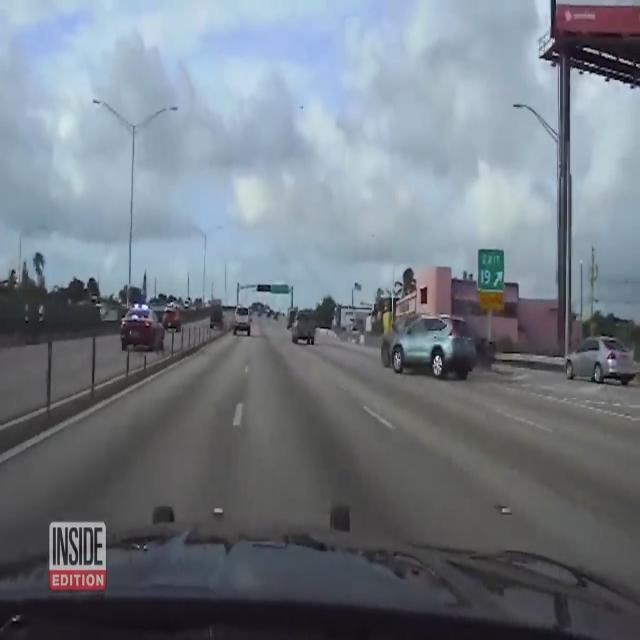accident: (367, 291, 494, 401)
non_accident: (124, 293, 188, 340)
